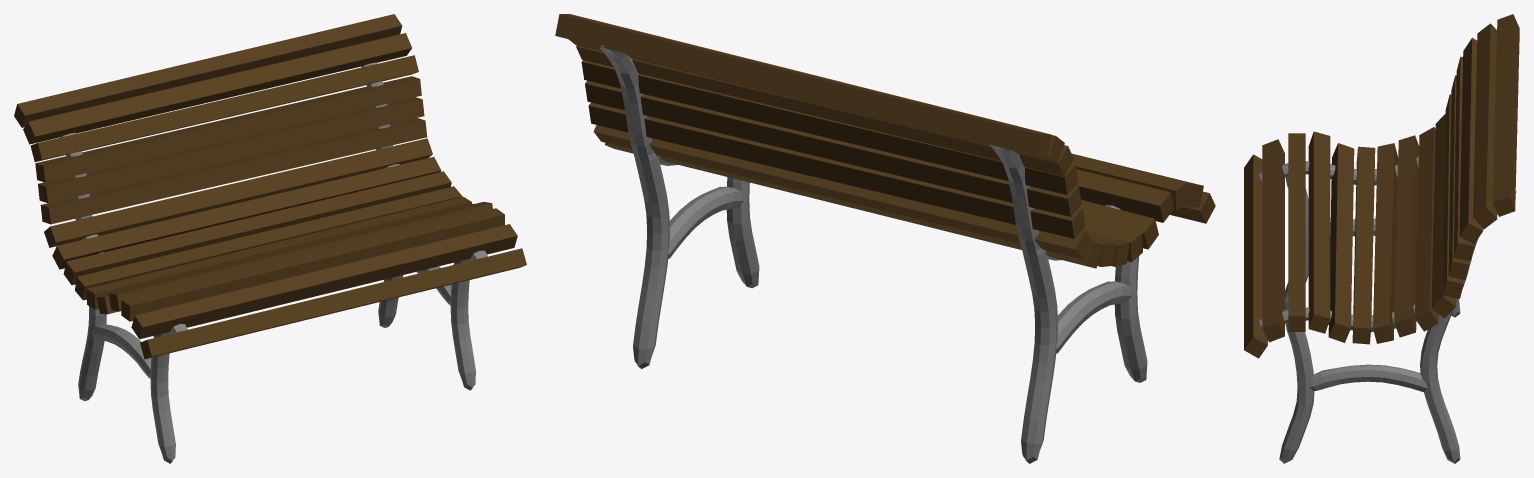
File: banch.fbx
3 renders of one model, left to right at view 1: azimuth 30°, elevation 25°; view 2: azimuth 150°, elevation 25°; view 3: azimuth 270°, elevation 25°, orthographic. The views are drawn at different scales.
Parts seen in each view (by area): view 1: Dossier, Armature; view 2: Dossier, Armature; view 3: Dossier, Armature.
Boxes of the visible parts, x1=… form: Dossier: x1=14, y1=14, x2=526, y2=359; Armature: x1=60, y1=62, x2=487, y2=463; Dossier: x1=555, y1=14, x2=1215, y2=268; Armature: x1=599, y1=45, x2=1147, y2=463; Dossier: x1=1244, y1=14, x2=1519, y2=358; Armature: x1=1258, y1=156, x2=1516, y2=463.
Size of the model in its own units: 500 by 364 by 319.
